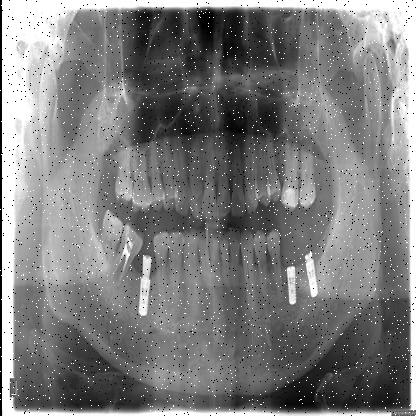ITI: (300, 249, 320, 302), (132, 278, 150, 322), (280, 262, 297, 308)
